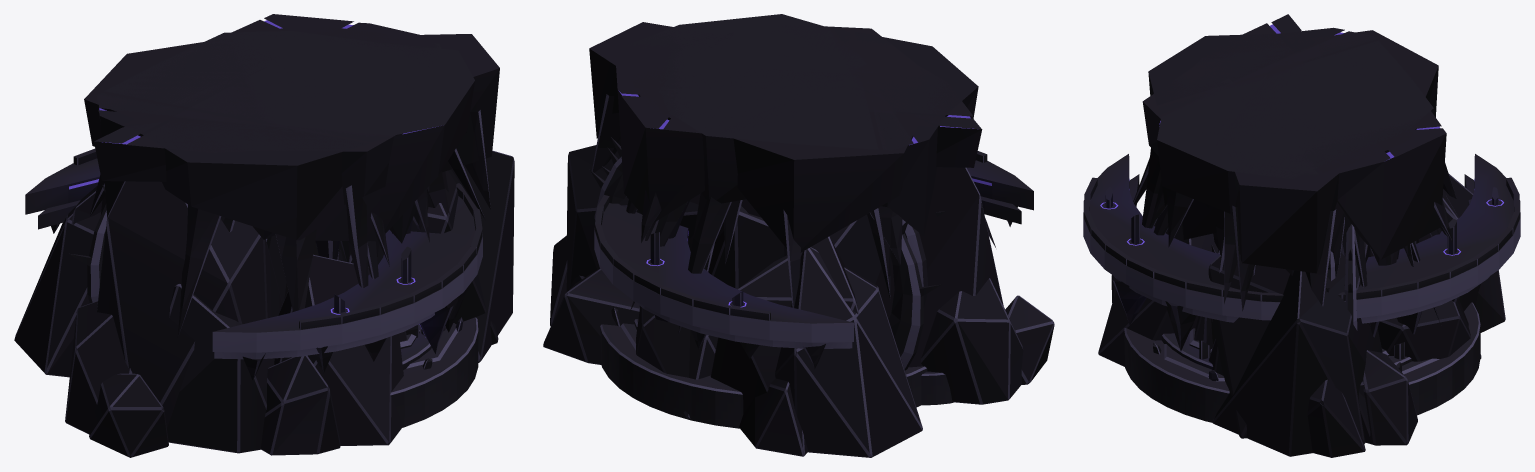
The model's file is umbra-kit.glb.
3 renders of one model, left to right at view 1: azimuth 30°, elevation 25°; view 2: azimuth 150°, elevation 25°; view 3: azimuth 270°, elevation 25°, orthographic. The views are drawn at different scales.
Visible parts, largest first — view 1: umb_float_0, umb_float_1, umb_peak_1, umb_peak_0, umb_dock_0, umb_peak_3, umb_peak_2, umb_float_2, umb_pad_0, umb_gate_0, umb_pad_1; view 2: umb_float_1, umb_float_0, umb_peak_0, umb_dock_0, umb_peak_3, umb_peak_1, umb_peak_2, umb_pad_0, umb_gate_0, umb_float_2; view 3: umb_float_0, umb_float_1, umb_dock_0, umb_peak_3, umb_pad_0, umb_peak_1, umb_float_2, umb_peak_2, umb_peak_0, umb_pad_1, umb_gate_0.
Boxes of the visible parts, left/top/right/bottom form: umb_float_0: left=97, top=31, right=484, bottom=337; umb_float_1: left=84, top=14, right=499, bottom=288; umb_peak_1: left=89, top=170, right=498, bottom=457; umb_peak_0: left=14, top=186, right=340, bottom=455; umb_dock_0: left=25, top=148, right=482, bottom=380; umb_peak_3: left=65, top=150, right=514, bottom=434; umb_peak_2: left=71, top=191, right=446, bottom=445; umb_float_2: left=168, top=25, right=452, bottom=279; umb_pad_0: left=390, top=317, right=478, bottom=427; umb_gate_0: left=68, top=185, right=106, bottom=303; umb_pad_1: left=400, top=323, right=457, bottom=368; umb_float_1: left=589, top=22, right=982, bottom=307; umb_float_0: left=630, top=14, right=995, bottom=334; umb_peak_0: left=571, top=235, right=922, bottom=457; umb_dock_0: left=594, top=151, right=1033, bottom=368; umb_peak_3: left=543, top=145, right=1023, bottom=404; umb_peak_1: left=550, top=167, right=1054, bottom=384; umb_peak_2: left=708, top=206, right=859, bottom=456; umb_pad_0: left=600, top=307, right=927, bottom=428; umb_gate_0: left=590, top=137, right=954, bottom=405; umb_float_2: left=626, top=30, right=905, bottom=271; umb_float_0: left=1133, top=27, right=1477, bottom=324; umb_float_1: left=1142, top=14, right=1456, bottom=321; umb_dock_0: left=1083, top=154, right=1520, bottom=351; umb_peak_3: left=1212, top=253, right=1417, bottom=456; umb_pad_0: left=1124, top=302, right=1480, bottom=422; umb_peak_1: left=1194, top=242, right=1370, bottom=457; umb_float_2: left=1153, top=48, right=1441, bottom=327; umb_peak_2: left=1098, top=192, right=1505, bottom=375; umb_peak_0: left=1111, top=174, right=1481, bottom=442; umb_pad_1: left=1164, top=328, right=1439, bottom=381; umb_gate_0: left=1326, top=224, right=1357, bottom=330.
Bounding box in the file's own units: 1.91 × 1.11 × 1.71.
